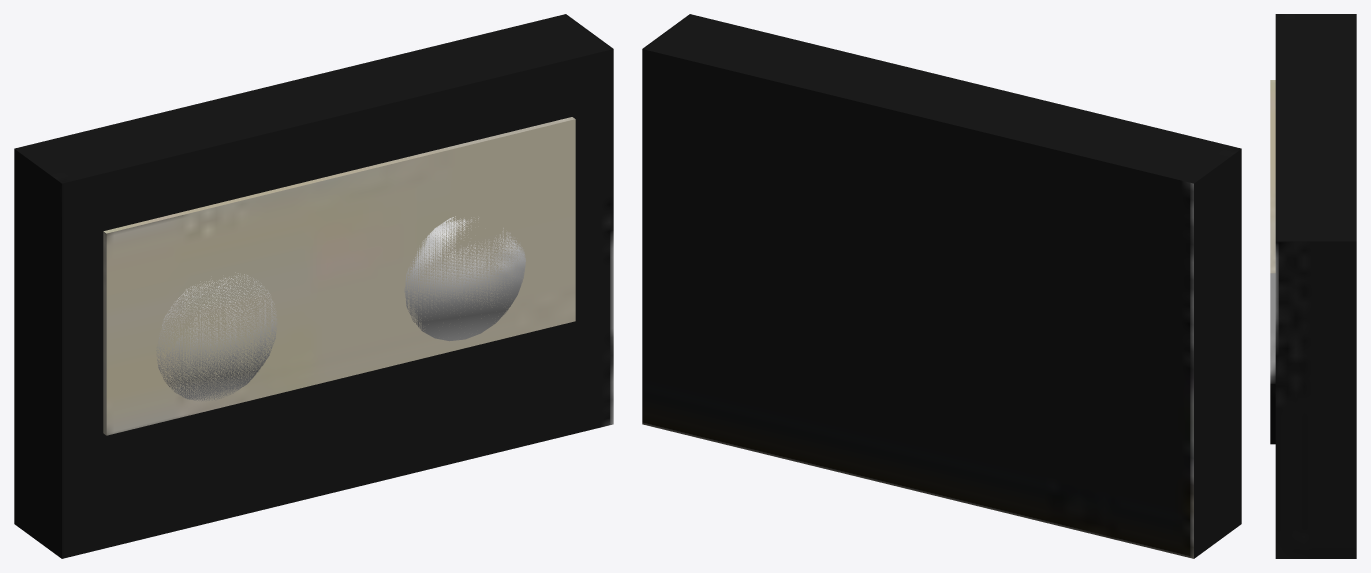
Rendered from cassette.glb.
The picture shows the model from 3 angles, left to right: view 1: azimuth 30°, elevation 25°; view 2: azimuth 150°, elevation 25°; view 3: azimuth 270°, elevation 25°; orthographic projection. The views are drawn at different scales.
Parts seen in each view (by area): view 1: Main; view 2: Main; view 3: Main.
Part boxes in pixels (x1,y1,x2,y2): Main: (14,14,613,558); Main: (642,14,1241,558); Main: (1270,14,1356,558).
Bounding box in the file's own units: 0.2 × 0.13 × 0.032.
1 material, 1 textured.
